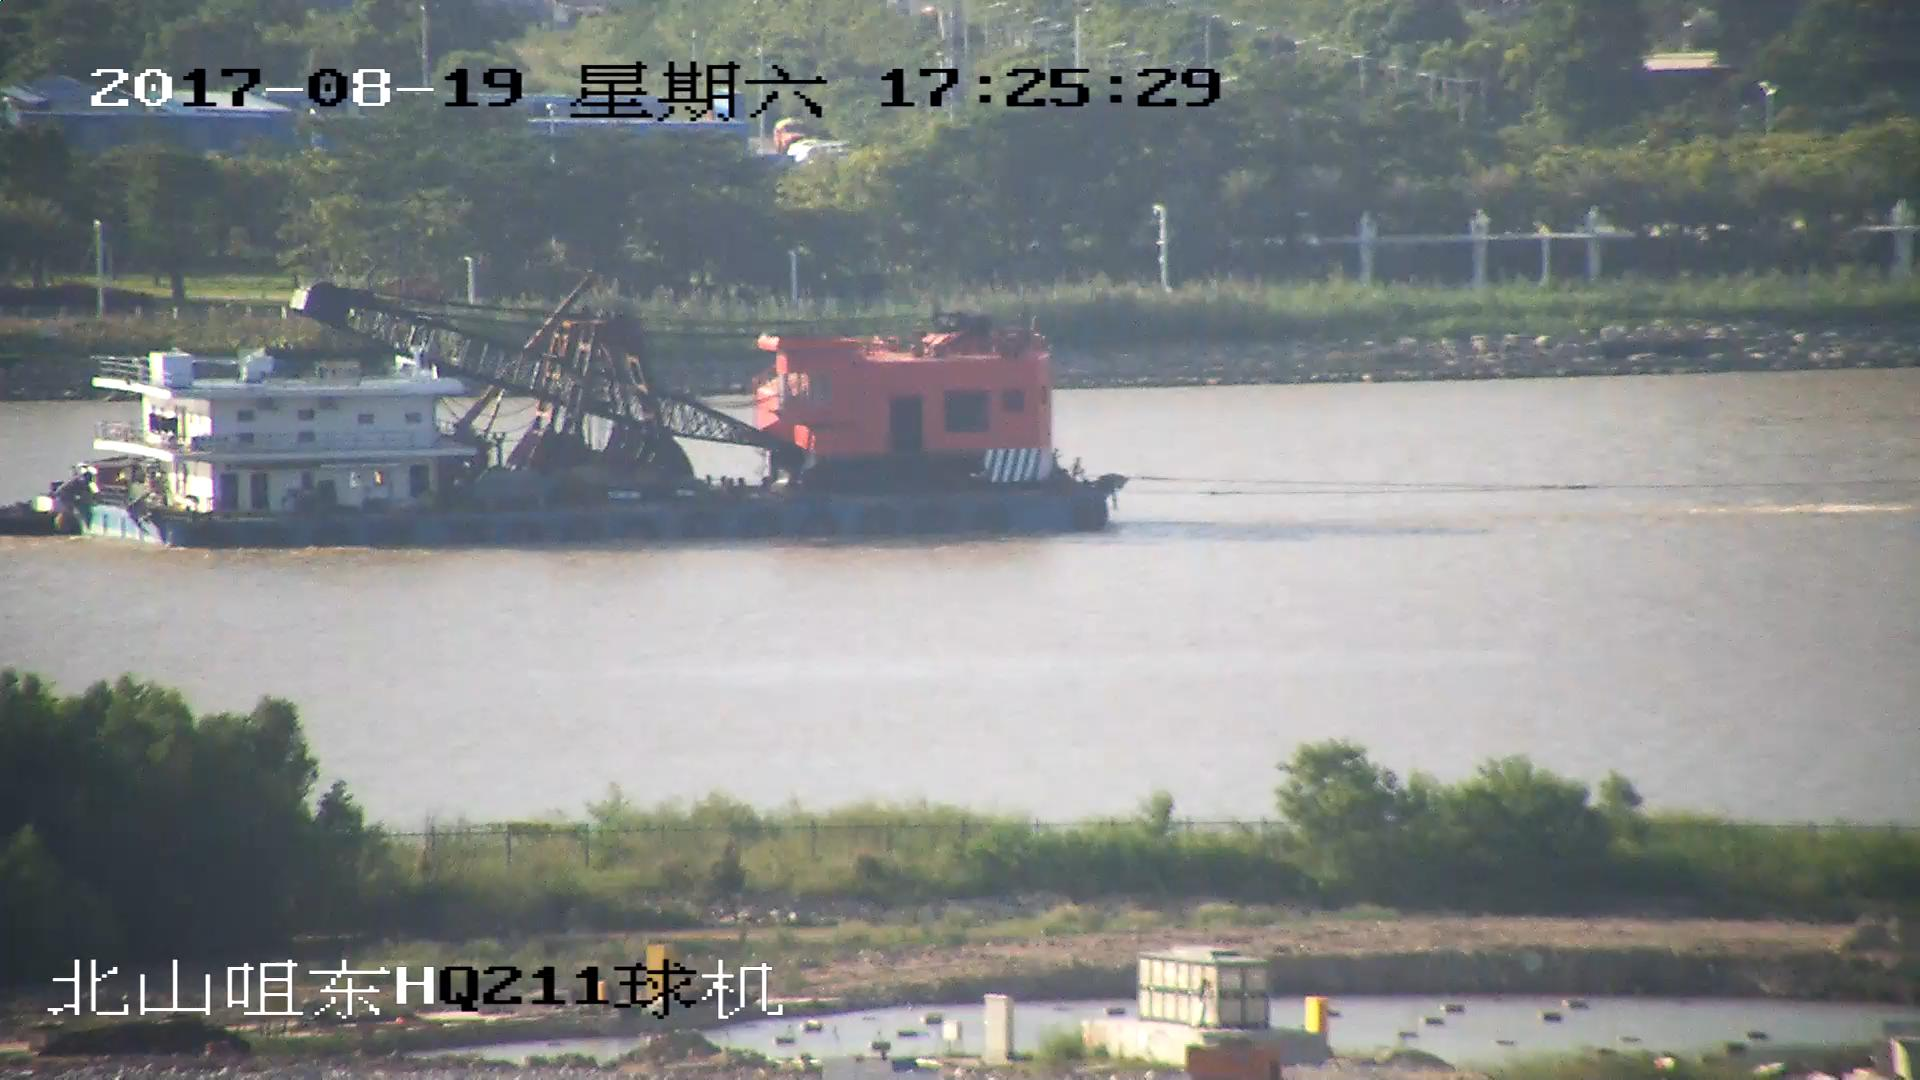fishing boat: (1, 259, 1106, 551)
